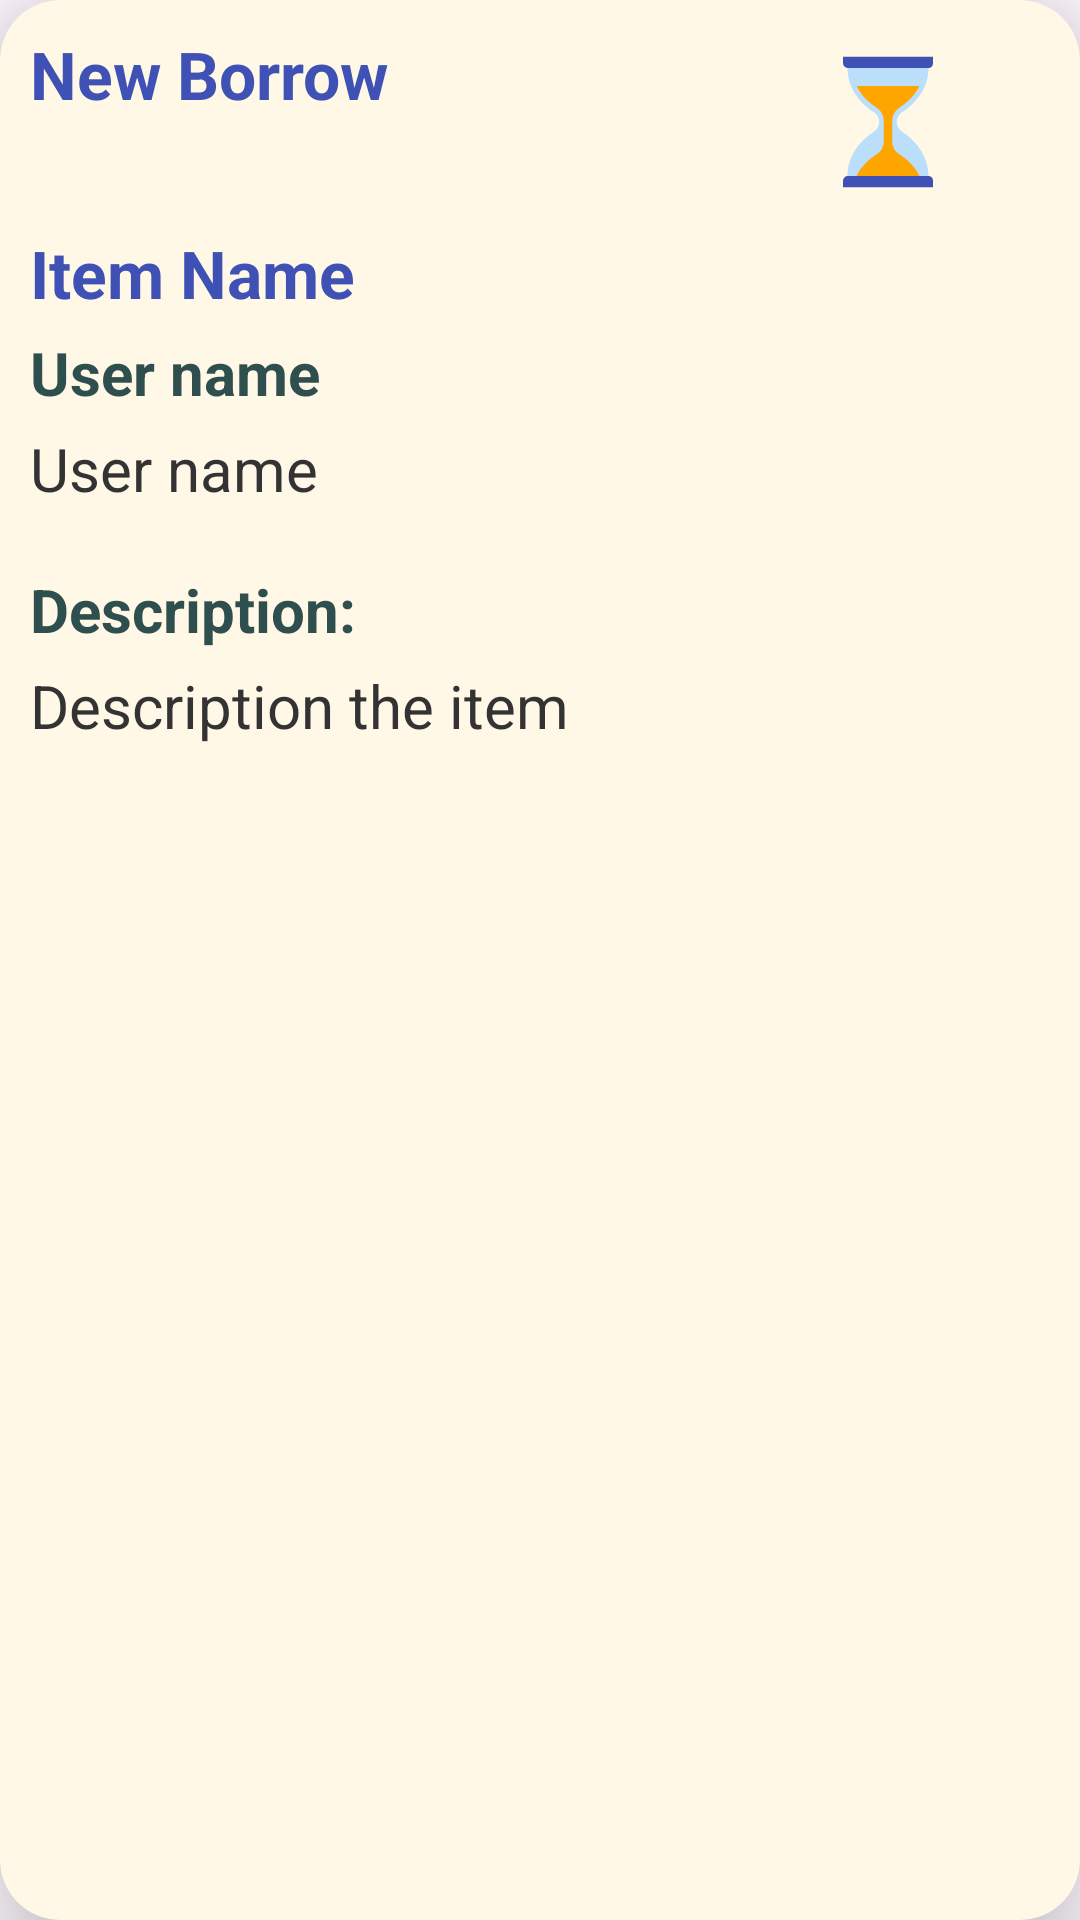

Screen size 1080w x 1920h. Icon name, then its center in pixels as point (x, y):
sand clock: point (888, 122)
